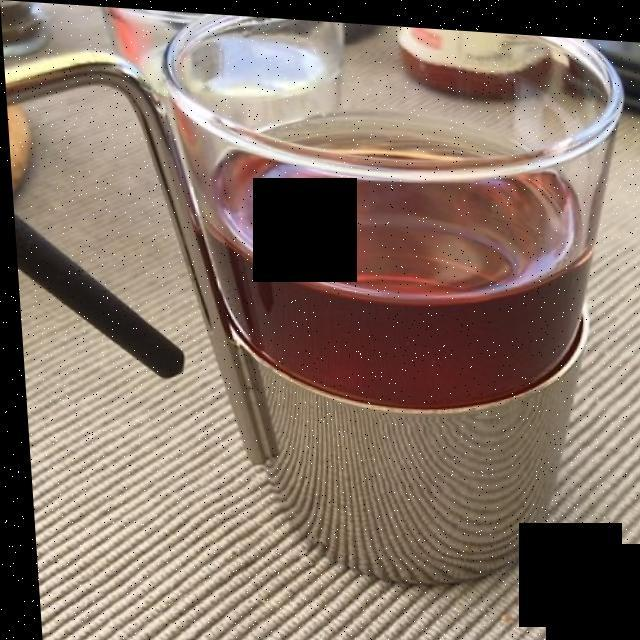tea: (212, 108, 594, 394)
